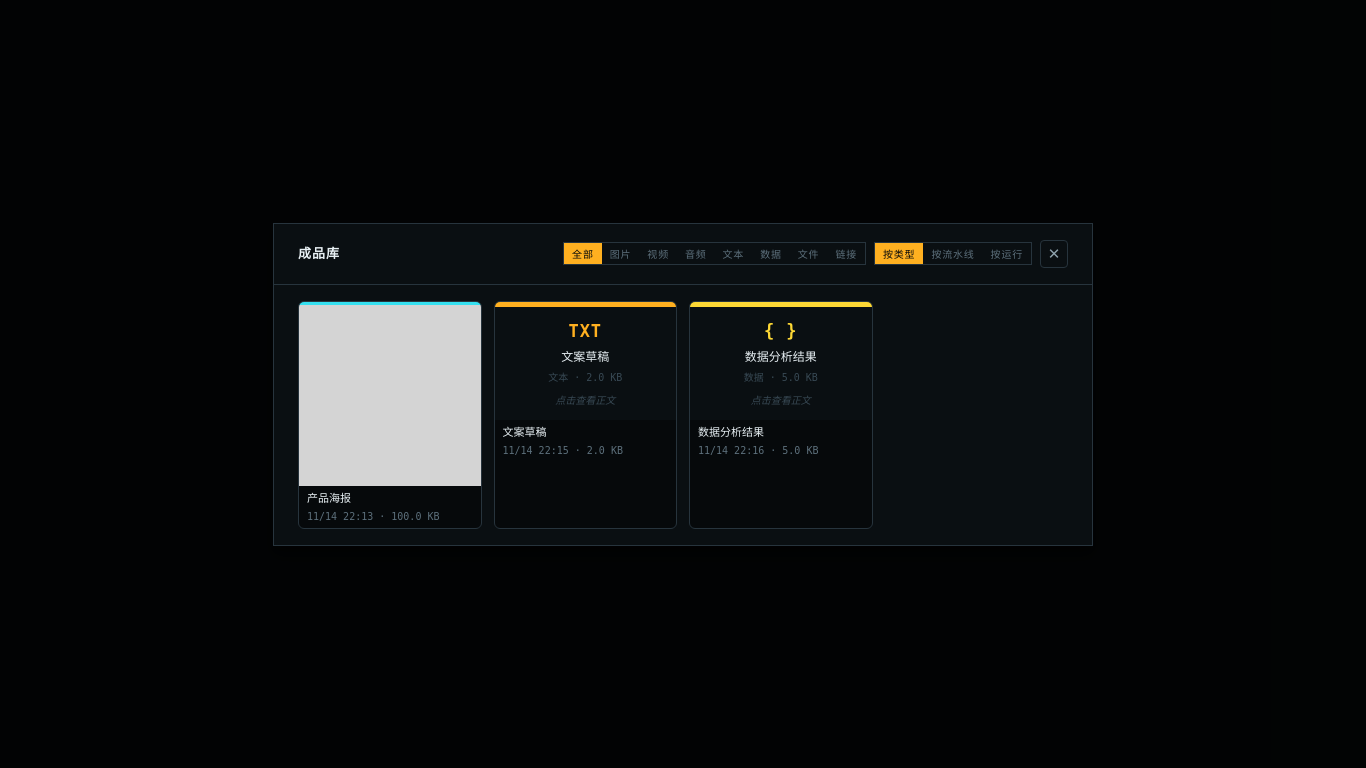
Test: ProductGallery › 类型过滤 › 点击'图片'过滤器只显示 image kind 的 artifact
Check: the text "产品海报" is shown, box [307,490,351,505]
Click the button "图片" at (620, 254), box [602,243,639,264]
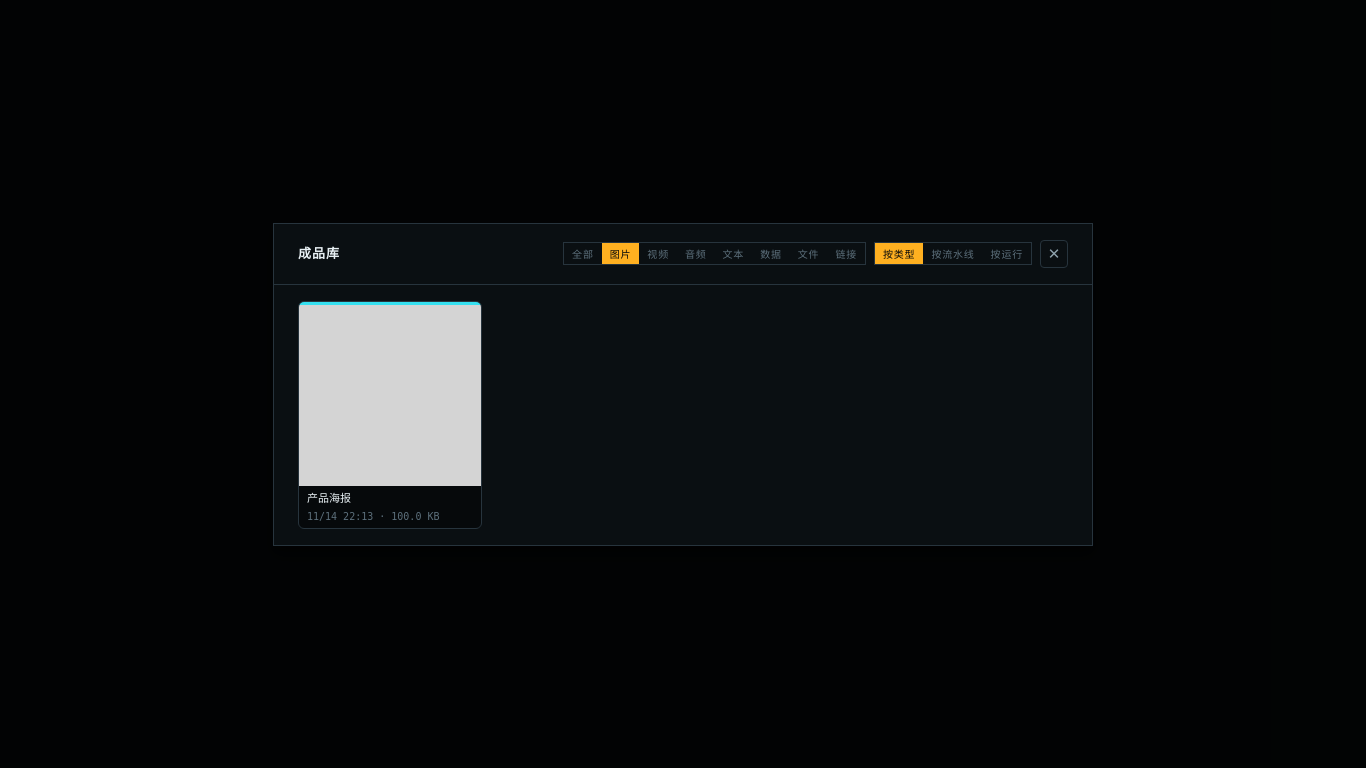
Check: the text "产品海报" is shown, box [307,490,351,505]
Check: the button "文案草稿" is gone
Check: the button "数据分析结果" is gone
